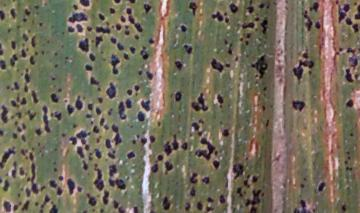tarspot: (289, 58, 315, 84), (250, 51, 269, 80), (190, 90, 211, 116), (194, 137, 214, 161), (243, 187, 268, 206), (26, 162, 39, 196), (91, 164, 105, 193), (1, 146, 18, 168), (207, 56, 225, 76), (104, 177, 129, 191), (64, 11, 91, 23), (108, 51, 121, 75), (230, 162, 247, 180), (300, 9, 312, 33), (105, 80, 118, 102), (292, 198, 311, 213), (43, 105, 51, 138), (288, 99, 308, 112), (76, 36, 90, 54), (259, 16, 271, 36), (210, 8, 224, 25), (342, 66, 355, 84), (115, 101, 126, 122), (93, 25, 114, 36), (77, 129, 91, 145), (85, 191, 98, 208), (65, 177, 76, 197), (1, 102, 10, 126), (105, 163, 120, 177), (87, 74, 103, 87), (161, 194, 173, 211), (75, 93, 84, 115), (188, 168, 199, 186), (137, 46, 150, 61), (171, 89, 184, 104), (141, 1, 154, 16), (162, 160, 177, 173), (226, 2, 241, 15), (186, 1, 199, 16), (1, 197, 13, 213), (140, 96, 152, 112), (171, 131, 179, 155), (240, 19, 256, 31), (51, 109, 63, 124), (343, 96, 355, 111), (161, 140, 173, 155), (64, 102, 75, 118), (21, 197, 32, 213), (75, 144, 86, 160), (180, 138, 191, 154), (124, 148, 137, 161), (93, 35, 105, 49), (182, 41, 194, 55), (148, 161, 162, 173), (307, 1, 321, 13), (50, 91, 61, 106), (9, 5, 18, 23), (9, 52, 19, 68), (22, 72, 35, 84), (134, 111, 147, 123), (219, 126, 232, 138), (173, 58, 184, 72), (144, 68, 155, 82), (113, 133, 122, 150), (30, 90, 40, 105), (215, 92, 225, 107), (313, 18, 323, 33), (187, 121, 202, 131), (234, 183, 244, 198), (104, 135, 113, 151), (317, 179, 326, 195), (183, 200, 194, 213), (341, 1, 352, 14), (179, 22, 189, 36), (103, 150, 117, 160), (301, 47, 311, 61), (353, 2, 360, 22), (352, 19, 360, 36), (26, 111, 38, 122), (65, 23, 76, 35), (147, 132, 158, 144), (80, 160, 91, 172), (200, 174, 212, 185), (186, 187, 198, 198), (109, 122, 120, 134), (1, 179, 11, 192), (48, 177, 58, 190), (48, 203, 61, 213), (93, 147, 103, 160), (101, 191, 109, 207), (19, 46, 28, 60), (11, 79, 20, 93), (32, 126, 43, 137), (83, 61, 94, 72), (95, 11, 106, 22), (337, 202, 348, 213), (344, 164, 355, 175), (345, 45, 356, 56), (18, 166, 28, 178), (85, 100, 95, 112), (127, 15, 137, 27), (211, 158, 221, 170), (244, 5, 256, 15), (259, 82, 269, 94), (18, 146, 28, 158), (9, 38, 18, 51), (205, 204, 218, 213), (49, 165, 62, 174), (30, 33, 37, 49), (154, 154, 168, 162), (218, 191, 226, 205), (264, 116, 271, 132), (9, 98, 19, 109), (75, 184, 86, 194), (115, 42, 126, 52), (127, 43, 137, 54), (83, 24, 94, 34), (69, 3, 80, 13), (91, 123, 101, 134), (250, 174, 261, 184), (3, 26, 14, 36), (27, 150, 36, 162), (68, 133, 77, 145), (133, 81, 141, 94), (196, 200, 204, 213), (204, 196, 217, 204), (43, 191, 51, 204), (19, 121, 29, 131), (124, 5, 134, 15), (297, 181, 307, 191), (347, 130, 357, 140), (129, 136, 139, 146), (10, 130, 19, 141), (125, 98, 134, 109), (248, 204, 259, 213), (19, 17, 30, 26), (351, 55, 360, 66), (29, 54, 36, 68), (11, 166, 18, 179), (79, 1, 92, 8), (21, 83, 30, 93), (1, 7, 7, 22), (22, 6, 31, 16), (96, 95, 105, 105), (147, 36, 156, 46), (139, 136, 148, 146), (257, 2, 267, 11), (36, 20, 46, 29), (155, 119, 164, 129), (51, 50, 61, 59), (19, 133, 27, 144), (76, 23, 84, 34), (226, 45, 234, 56), (344, 16, 352, 27), (1, 60, 8, 72), (19, 96, 26, 108), (126, 86, 133, 98), (114, 21, 121, 33), (130, 204, 139, 213), (108, 36, 118, 44), (108, 6, 116, 16), (98, 117, 108, 125), (49, 75, 59, 83), (93, 137, 103, 145), (39, 183, 49, 191), (33, 198, 40, 209), (136, 68, 143, 79), (214, 147, 221, 158), (116, 206, 127, 213), (51, 63, 62, 70), (225, 61, 234, 69), (243, 39, 251, 48), (60, 131, 68, 140), (111, 198, 118, 208), (4, 82, 11, 92), (14, 202, 20, 213), (97, 207, 108, 213), (1, 41, 5, 56), (259, 101, 265, 111), (245, 32, 252, 40), (1, 125, 5, 137), (111, 1, 123, 5), (81, 207, 89, 213), (128, 1, 139, 5)
